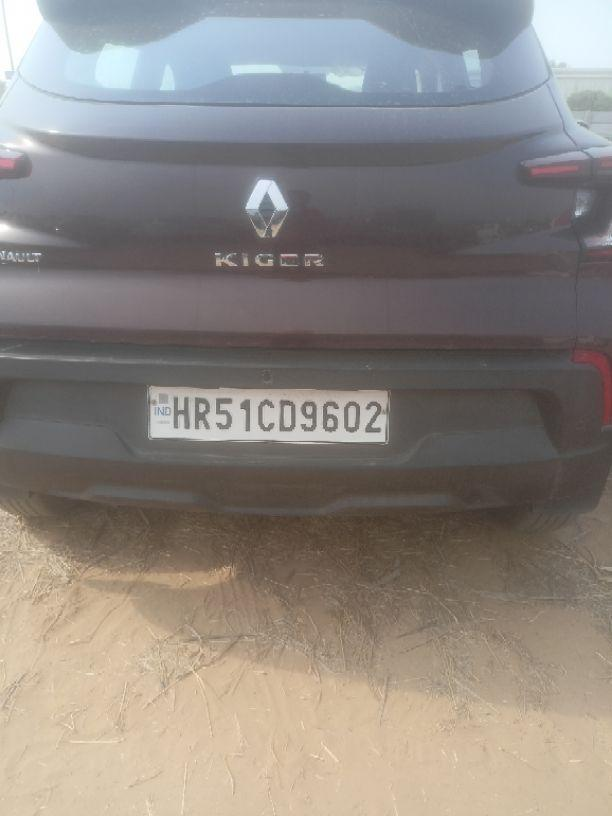license_plate: (145, 384, 391, 444)
